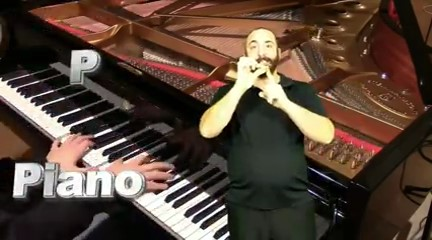P: (236, 54, 287, 116)
